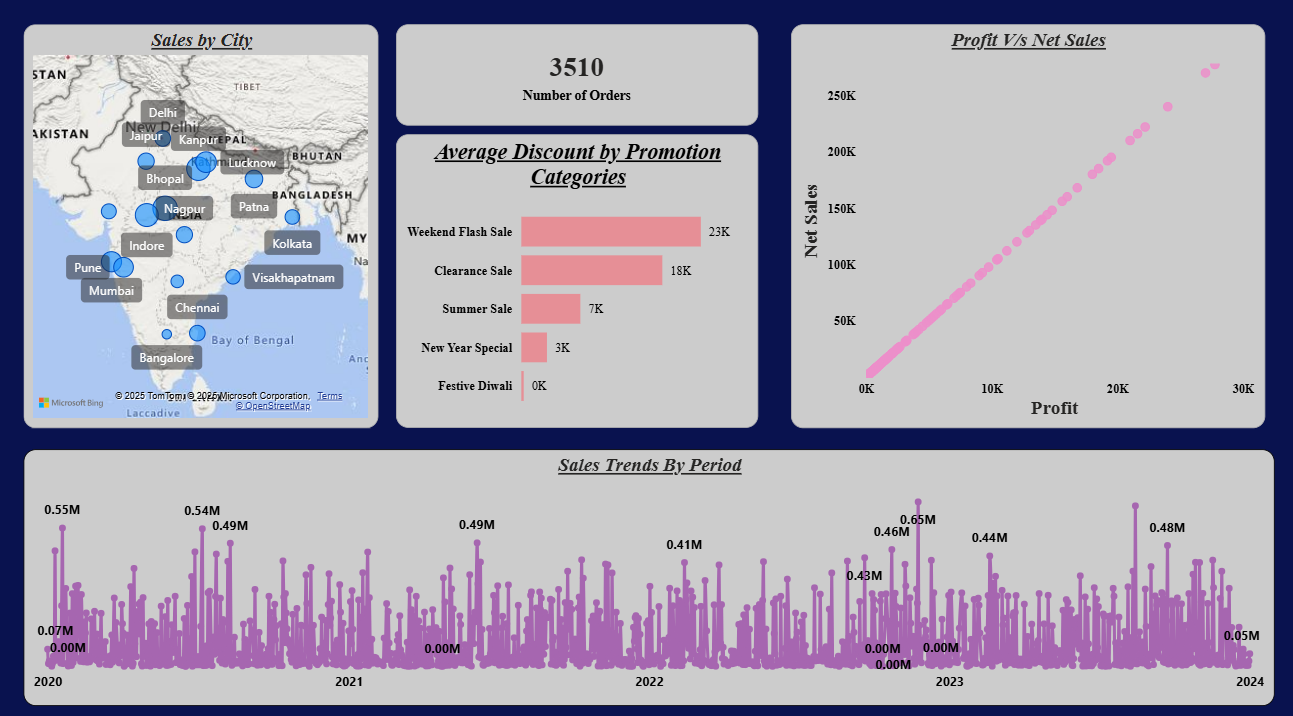

What the dashboard file says about the page in this screenshot:
{"tool":"powerbi","page":{"name":"Overview","canvas":[1280,720],"ordinal":0},"visuals":[{"type":"lineChart","title":"Sales Trends By Period","fields":{"Category":["Fact Table.Date (dd/mm/yyyy).Variation.Date Hierarchy.Year"],"Y":["Sum(Fact Table.Net Sales )"]},"box":[27.4,446,1224,251.1],"z":0},{"type":"scatterChart","title":"Profit V/s Net Sales ","fields":{"Y":["Fact Table.Net Sales "],"X":["Fact Table.Profit"]},"box":[778,30.2,463.8,395.2],"z":1000},{"type":"barChart","title":"Average Discount by Promotion Categories","fields":{"Y":["Avg(Fact Table.Discount)"],"Category":["Dim Promotion.Promotion Name"]},"box":[391.3,138.2,354.6,287.4],"z":2000},{"type":"map","title":"Sales by City","fields":{"Category":["Dim Customers.City"],"Size":["Sum(Fact Table.Net Sales )"]},"box":[26.9,30.6,347.3,395],"z":3000},{"type":"card","fields":{"Values":["Count(Fact Table.Order Id)"]},"box":[391.3,30.6,354.6,99],"z":4000}]}

Visuals, with their boxes in screenshot pixels (x1, y1, x2, y2), scaled from the page's 1280x720 canvas onto the 1293x716 screenshot:
"Sales Trends By Period" lineChart: detection(28, 444, 1264, 693)
"Profit V/s Net Sales " scatterChart: detection(786, 30, 1254, 423)
"Average Discount by Promotion Categories" barChart: detection(395, 137, 753, 423)
"Sales by City" map: detection(27, 30, 378, 423)
card - Count(Fact Table.Order Id): detection(395, 30, 753, 129)
